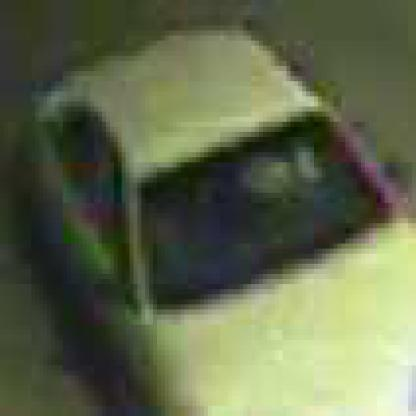car: (16, 16, 416, 412)
